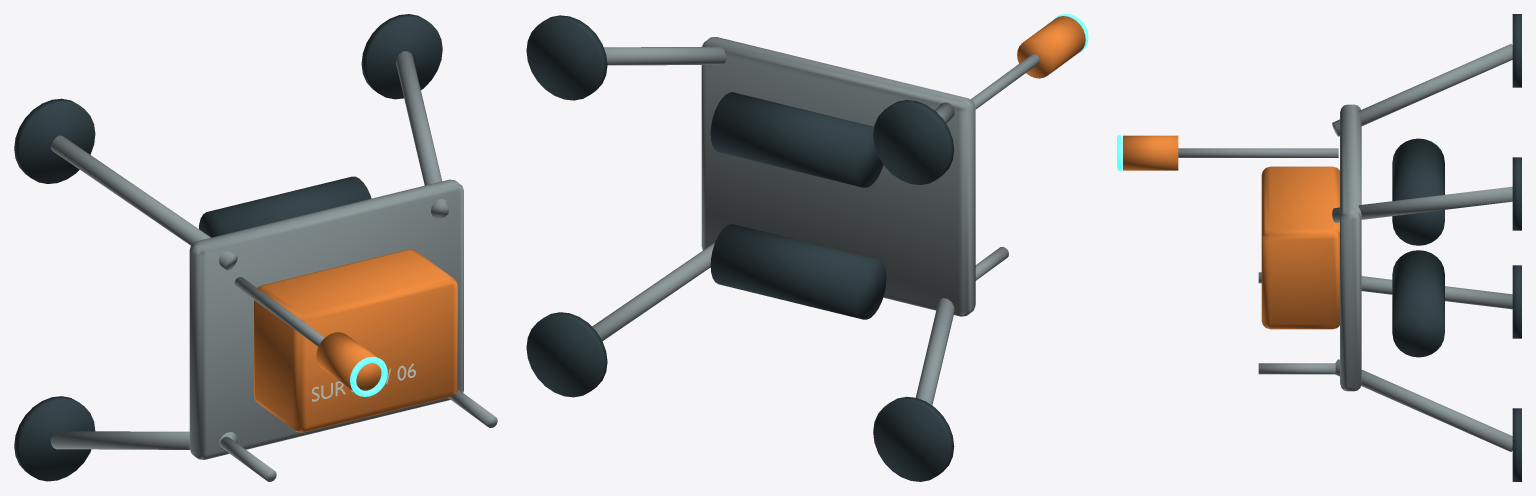
File: survey_station.glb
3 renders of one model, left to right at view 1: azimuth 30°, elevation 25°; view 2: azimuth 150°, elevation 25°; view 3: azimuth 270°, elevation 25°, orthographic. The views are drawn at different scales.
Parts seen in each view (by area): view 1: survey_station; view 2: survey_station; view 3: survey_station.
Part boxes in pixels (x1,y1,x2,y2): survey_station: (14, 14, 497, 481); survey_station: (526, 14, 1088, 481); survey_station: (1117, 14, 1521, 481).
Bounding box in the file's own units: 1.34 × 1.14 × 1.31.
